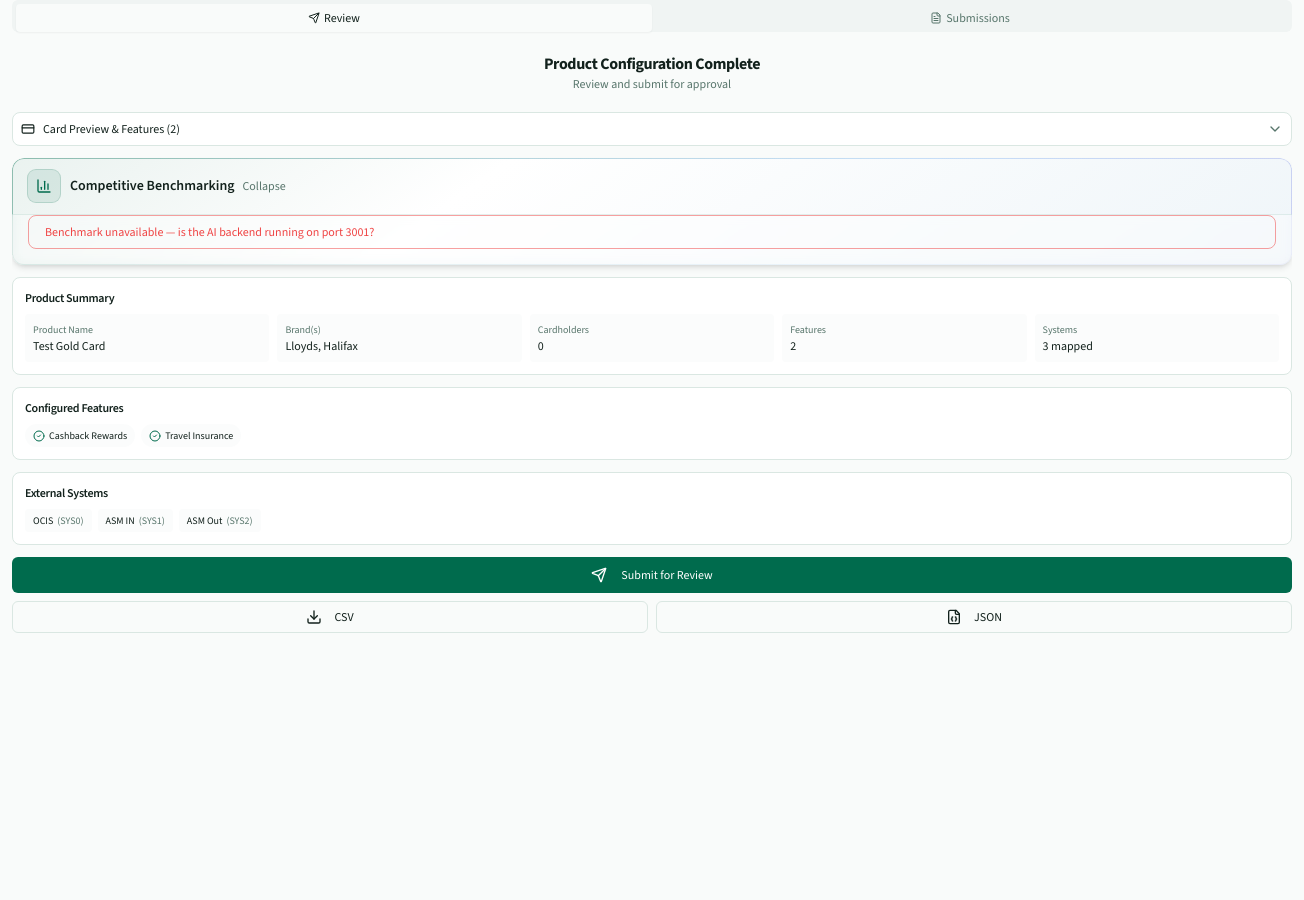
Test: ReviewStep › disables submit button after submission
The width and height of the screenshot is (1304, 900).
Step 1. Click the button "Submit for Review" → point(652, 575), box [12,557,1292,593]
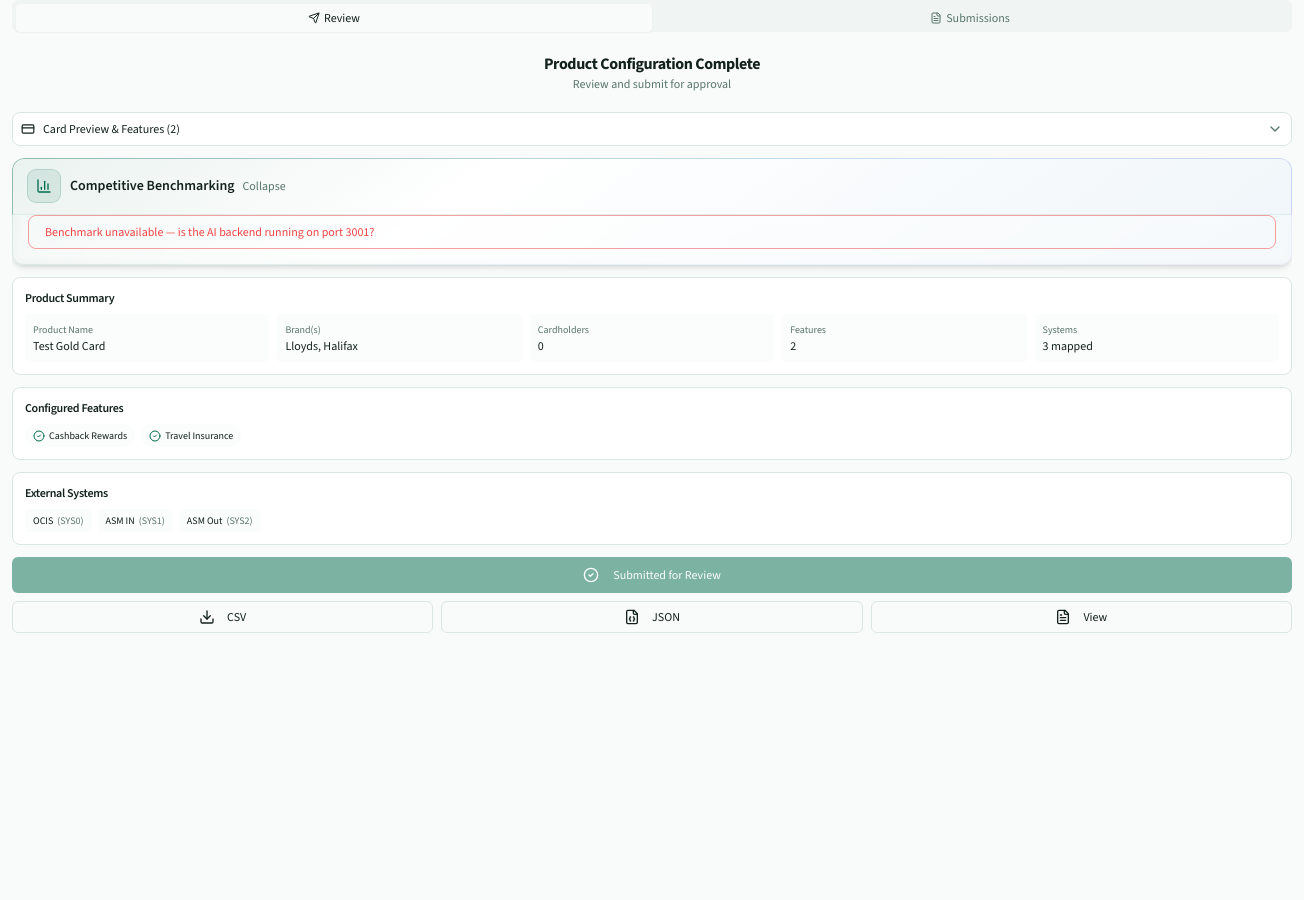
Expected: the button "Submitted for Review" is disabled, [12,557,1292,593]
